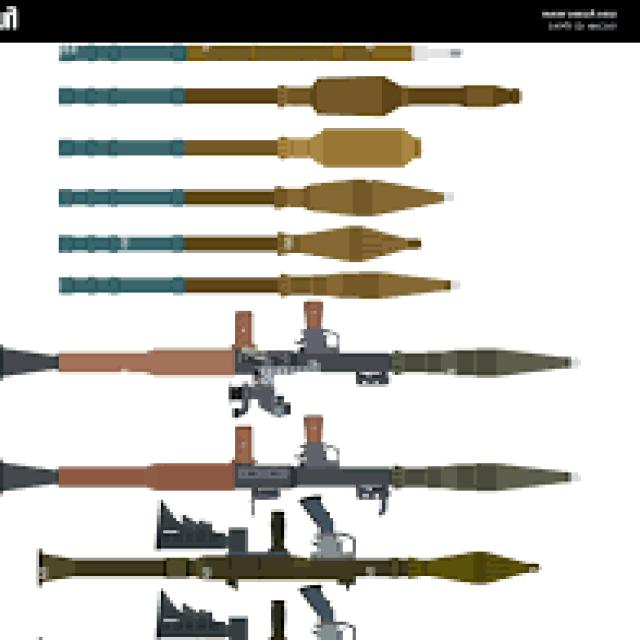Gun: (0, 399, 584, 521), (0, 298, 604, 391), (27, 506, 553, 588), (17, 600, 610, 640)
